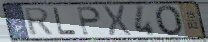4: (134, 5, 157, 38)
L: (52, 7, 79, 36)
O: (153, 4, 185, 37)
P: (75, 6, 102, 37)
R: (22, 7, 55, 37)
X: (100, 5, 134, 38)
